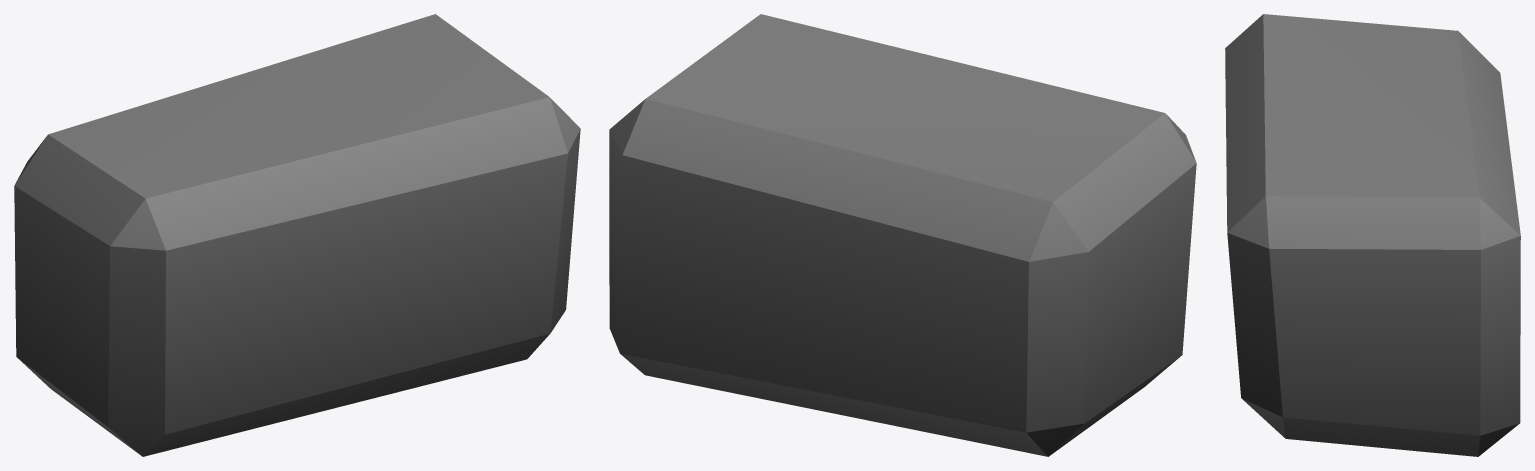
The model's file is Brick_Single_SH_01.fbx.
3 renders of one model, left to right at view 1: azimuth 30°, elevation 25°; view 2: azimuth 150°, elevation 25°; view 3: azimuth 270°, elevation 25°, orthographic. The views are drawn at different scales.
Visible parts, largest first — view 1: Brick_Single_SH_01; view 2: Brick_Single_SH_01; view 3: Brick_Single_SH_01.
Boxes of the visible parts, <box> form: Brick_Single_SH_01: <box>14,14,580,456</box>; Brick_Single_SH_01: <box>609,14,1196,456</box>; Brick_Single_SH_01: <box>1225,14,1520,456</box>.
Size of the model in its own units: 36.76 by 20.68 by 21.33.
